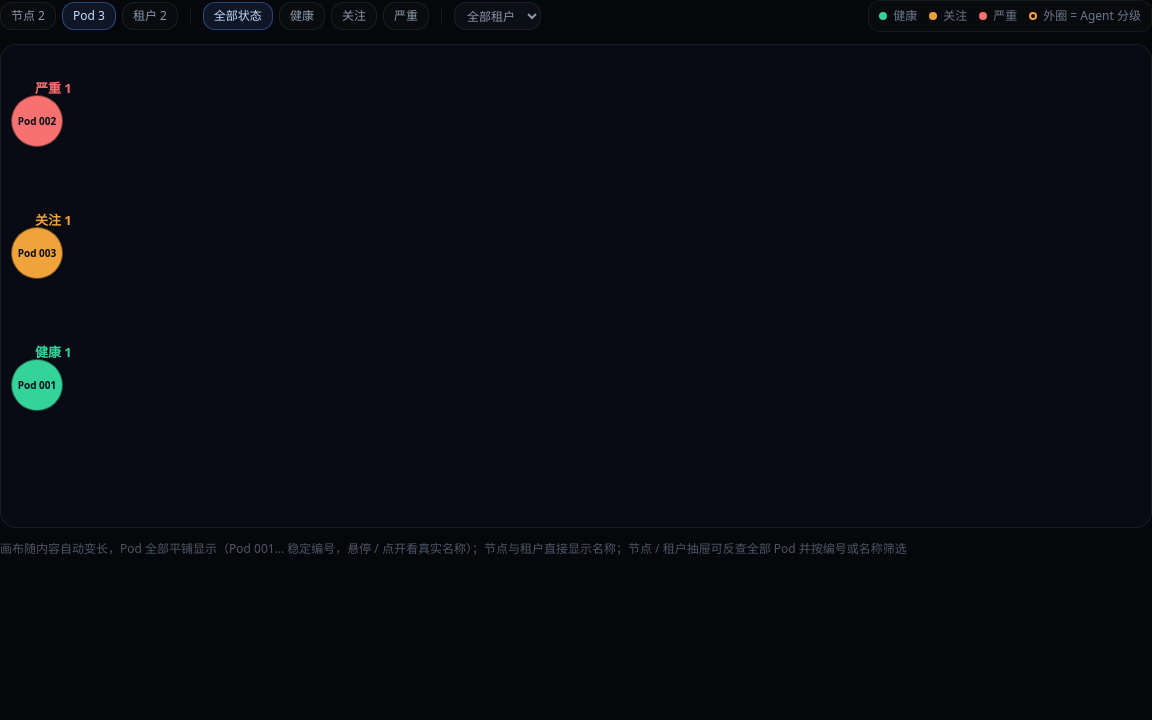
Test: ClusterBubbleField › 切换到节点视图并打开详情抽屉
Click the button "节点 2": point(28, 16) left=0, top=2, right=56, bottom=30
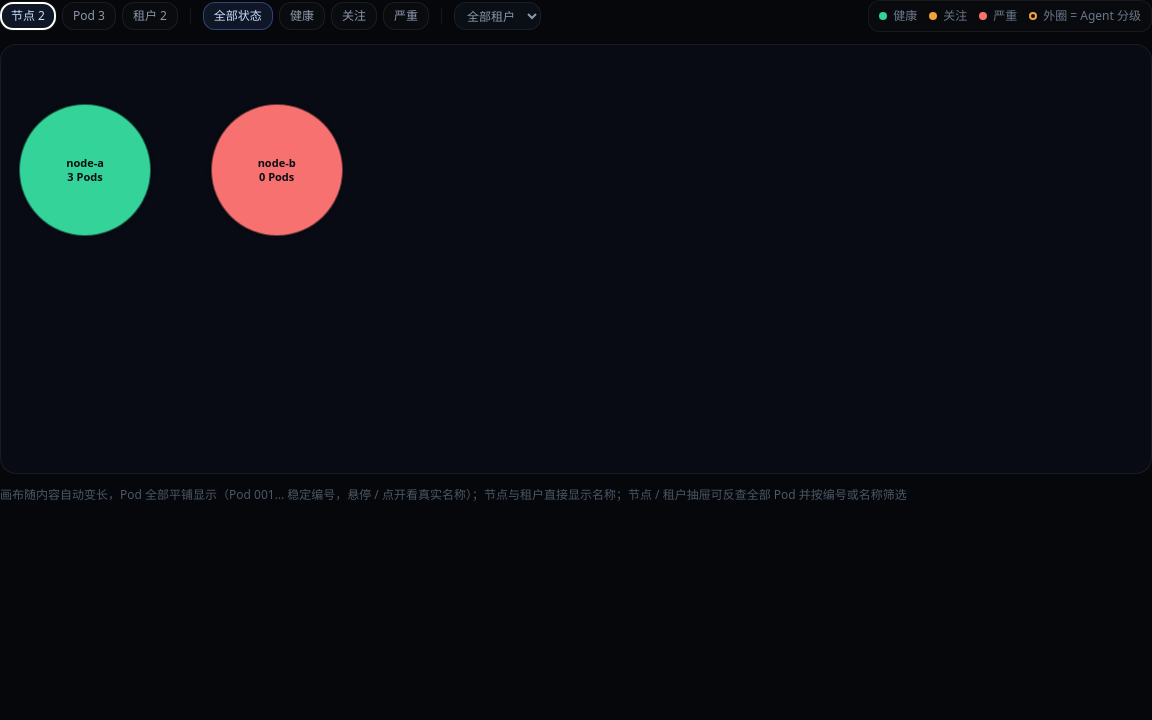
Now the button titled "node-a 节点 · 健康" is shown
Click the button titled "node-a 节点 · 健康": point(85, 170) left=19, top=104, right=151, bottom=236
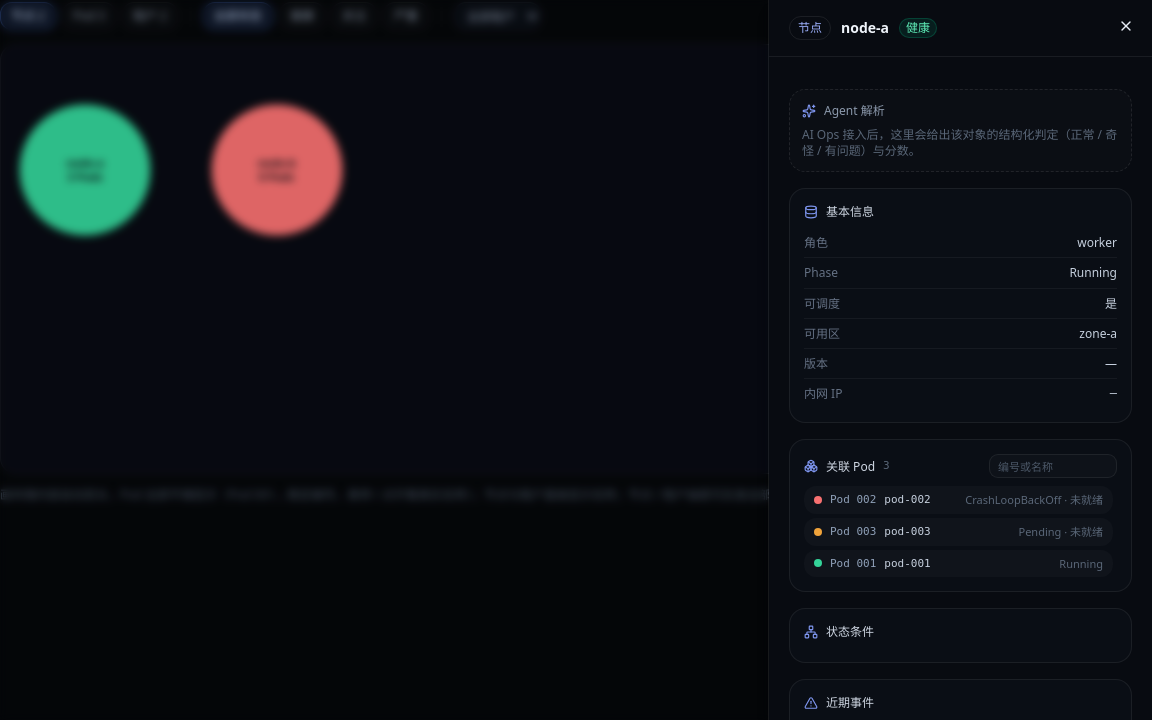
Now the text "基本信息" is shown, box left=804, top=203, right=874, bottom=220
Now the text "Agent 解析" is shown, box left=802, top=102, right=885, bottom=119
